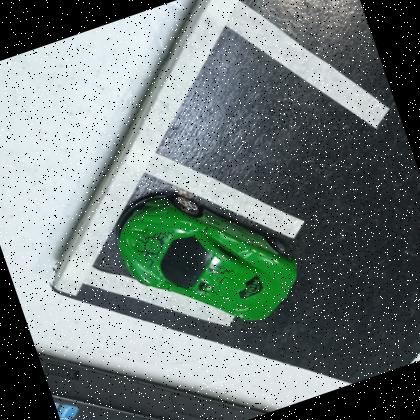Car: (104, 156, 313, 359)
